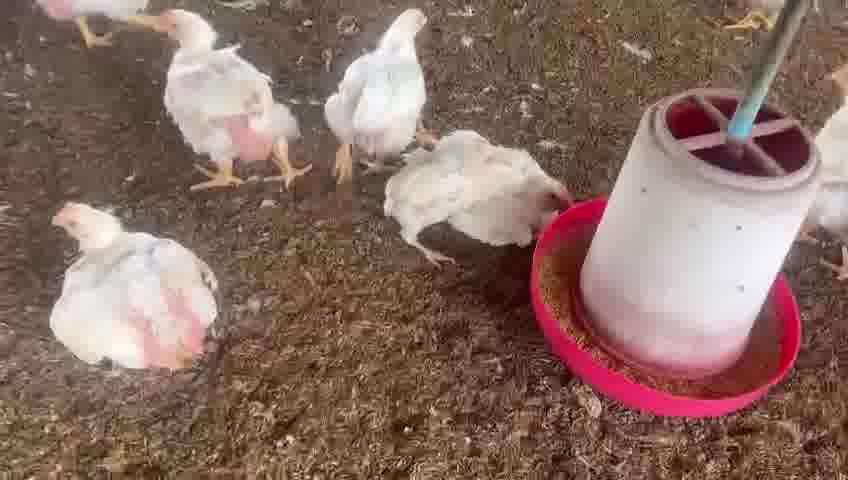AbNormal: (50, 200, 217, 373), (386, 132, 566, 262)
Normal: (154, 9, 305, 191), (330, 7, 430, 182)
